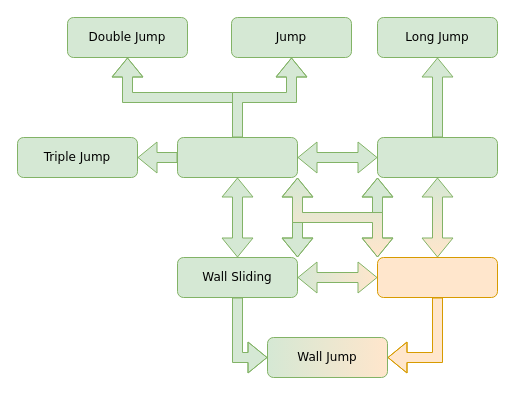
The diagram is 515 pixels wide and 395 high, and some of its shapes have lost their labels. Here are the shapes that lost their labels. From the top down, the centre of each, then its label:
point 237,157: Idle/Walking
point 437,157: Sprinting
point 437,277: Climbing
